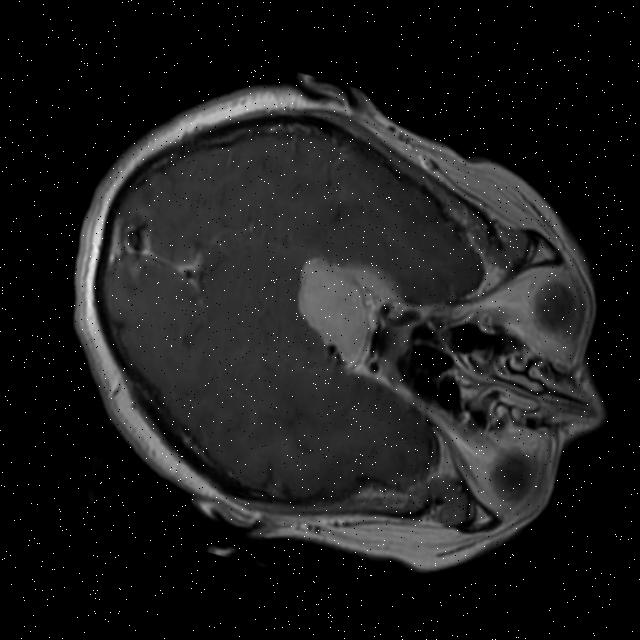Meningioma: (280, 246, 386, 371), (339, 255, 413, 304)
